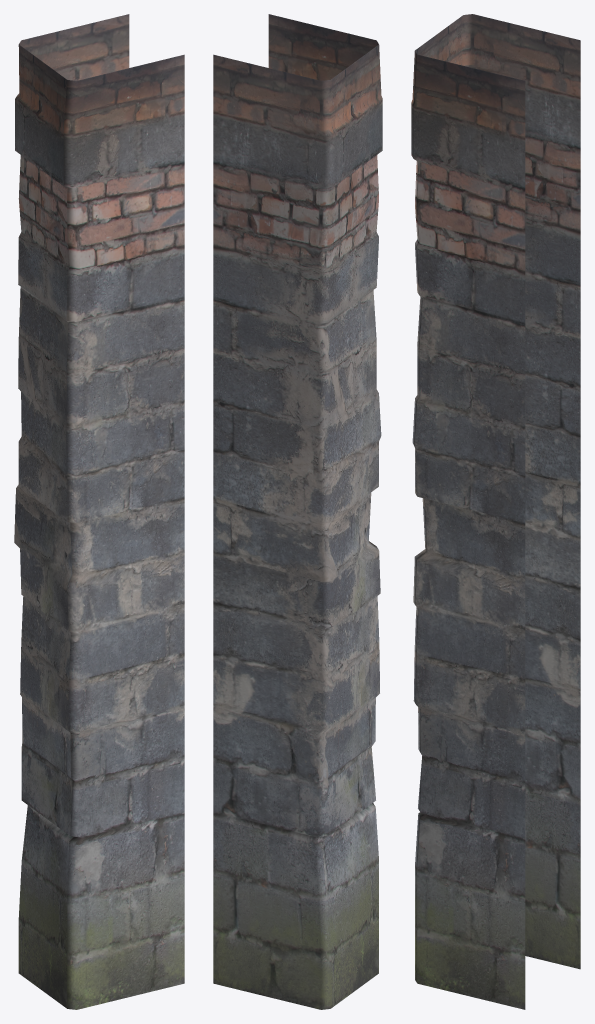
Rendered from sm_Wall_06_35_Column.fbx.
3 views of the same model, side by side, from view 1: azimuth 30°, elevation 25°; view 2: azimuth 150°, elevation 25°; view 3: azimuth 330°, elevation 25° (orthographic).
Visible parts, largest first — view 1: sm_Wall_06_35_Column_LOD0; view 2: sm_Wall_06_35_Column_LOD0; view 3: sm_Wall_06_35_Column_LOD0.
Part boxes in pixels (bbox=[...]): sm_Wall_06_35_Column_LOD0: bbox=[14, 14, 184, 1009]; sm_Wall_06_35_Column_LOD0: bbox=[213, 14, 382, 1009]; sm_Wall_06_35_Column_LOD0: bbox=[411, 14, 580, 1009].
Bounding box in the file's own units: 42.27 × 49.05 × 370.
